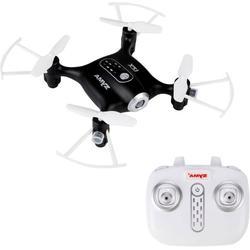drone: (2, 1, 236, 169)
